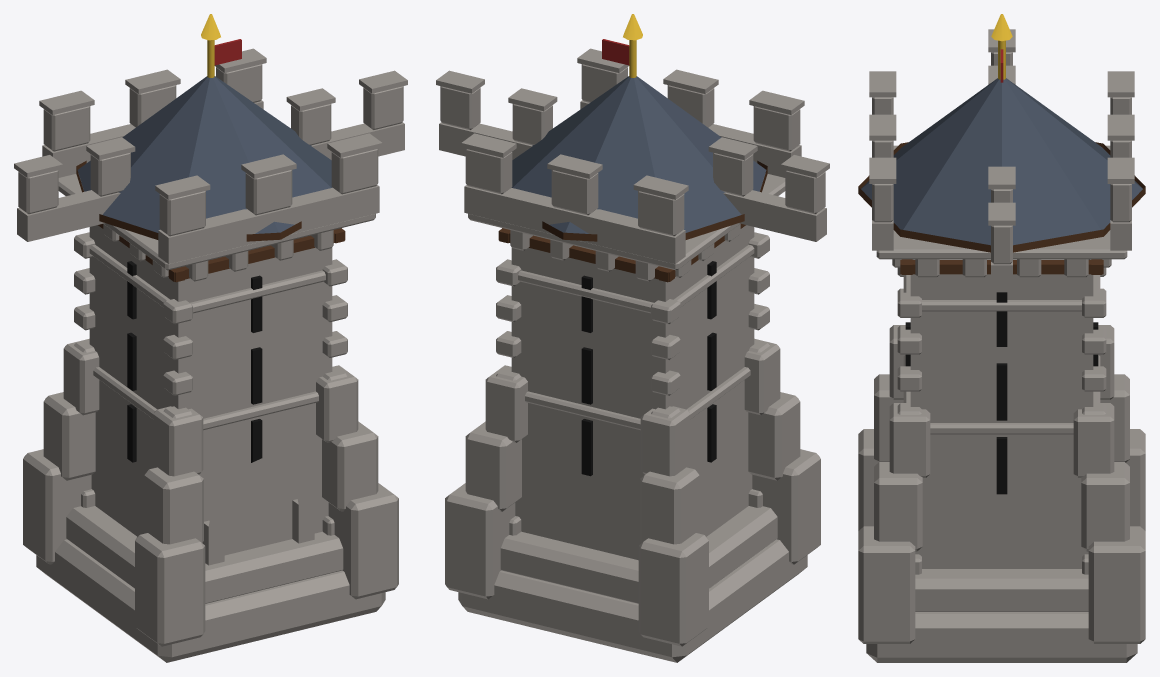
Rendered from AoE4_Watchtower.obj.
3 renders of one model, left to right at view 1: azimuth 30°, elevation 25°; view 2: azimuth 150°, elevation 25°; view 3: azimuth 270°, elevation 25°, orthographic. The views are drawn at different scales.
Bounding box in the file's own units: 3.34 × 4.85 × 2.12.
